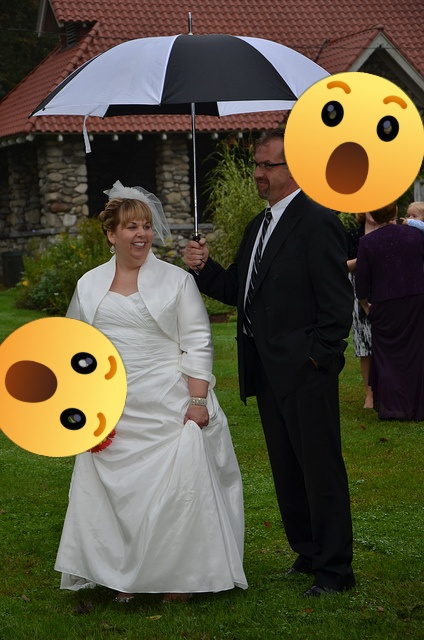wow: (284, 72, 424, 213), (0, 317, 127, 457)
